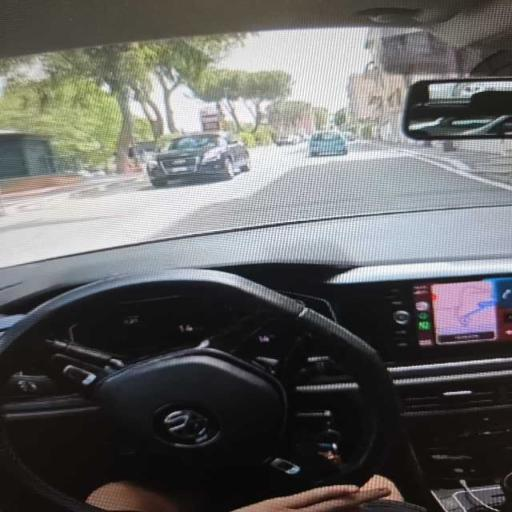car: (0, 0, 511, 511), (148, 132, 249, 186), (308, 131, 347, 156), (276, 135, 302, 145)
lane: (0, 145, 303, 266), (160, 146, 511, 236)
person: (236, 476, 424, 511)
